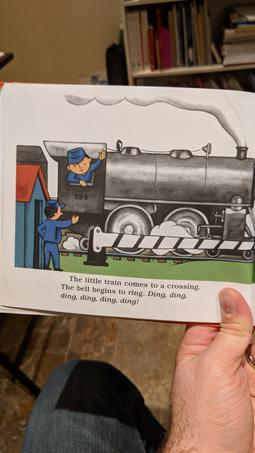text block: (51, 271, 206, 314)
